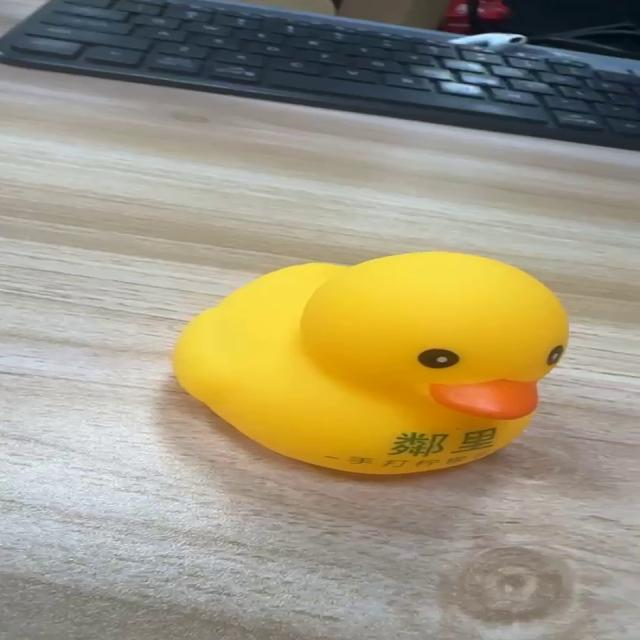yellow_duck: (170, 250, 570, 476)
